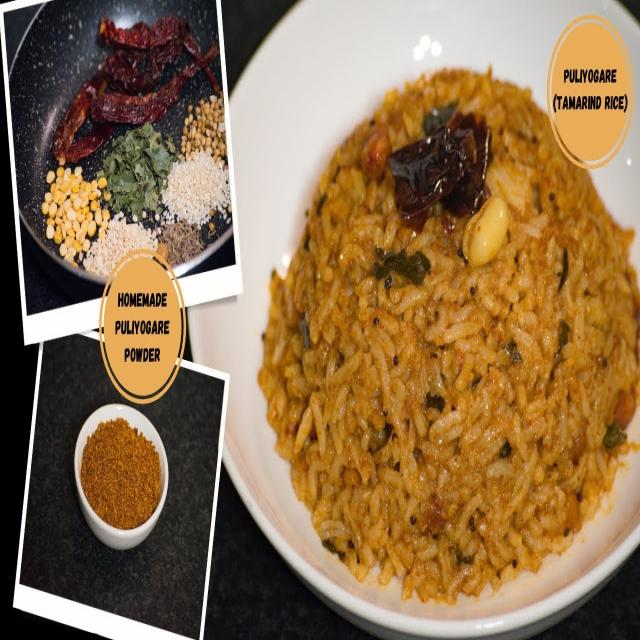puliyogare: (250, 63, 637, 612)
